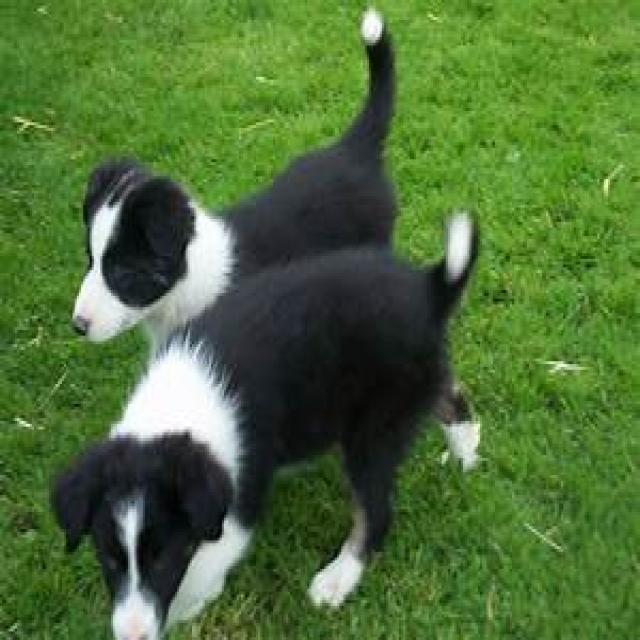dog: (49, 213, 480, 640), (73, 11, 399, 356)
